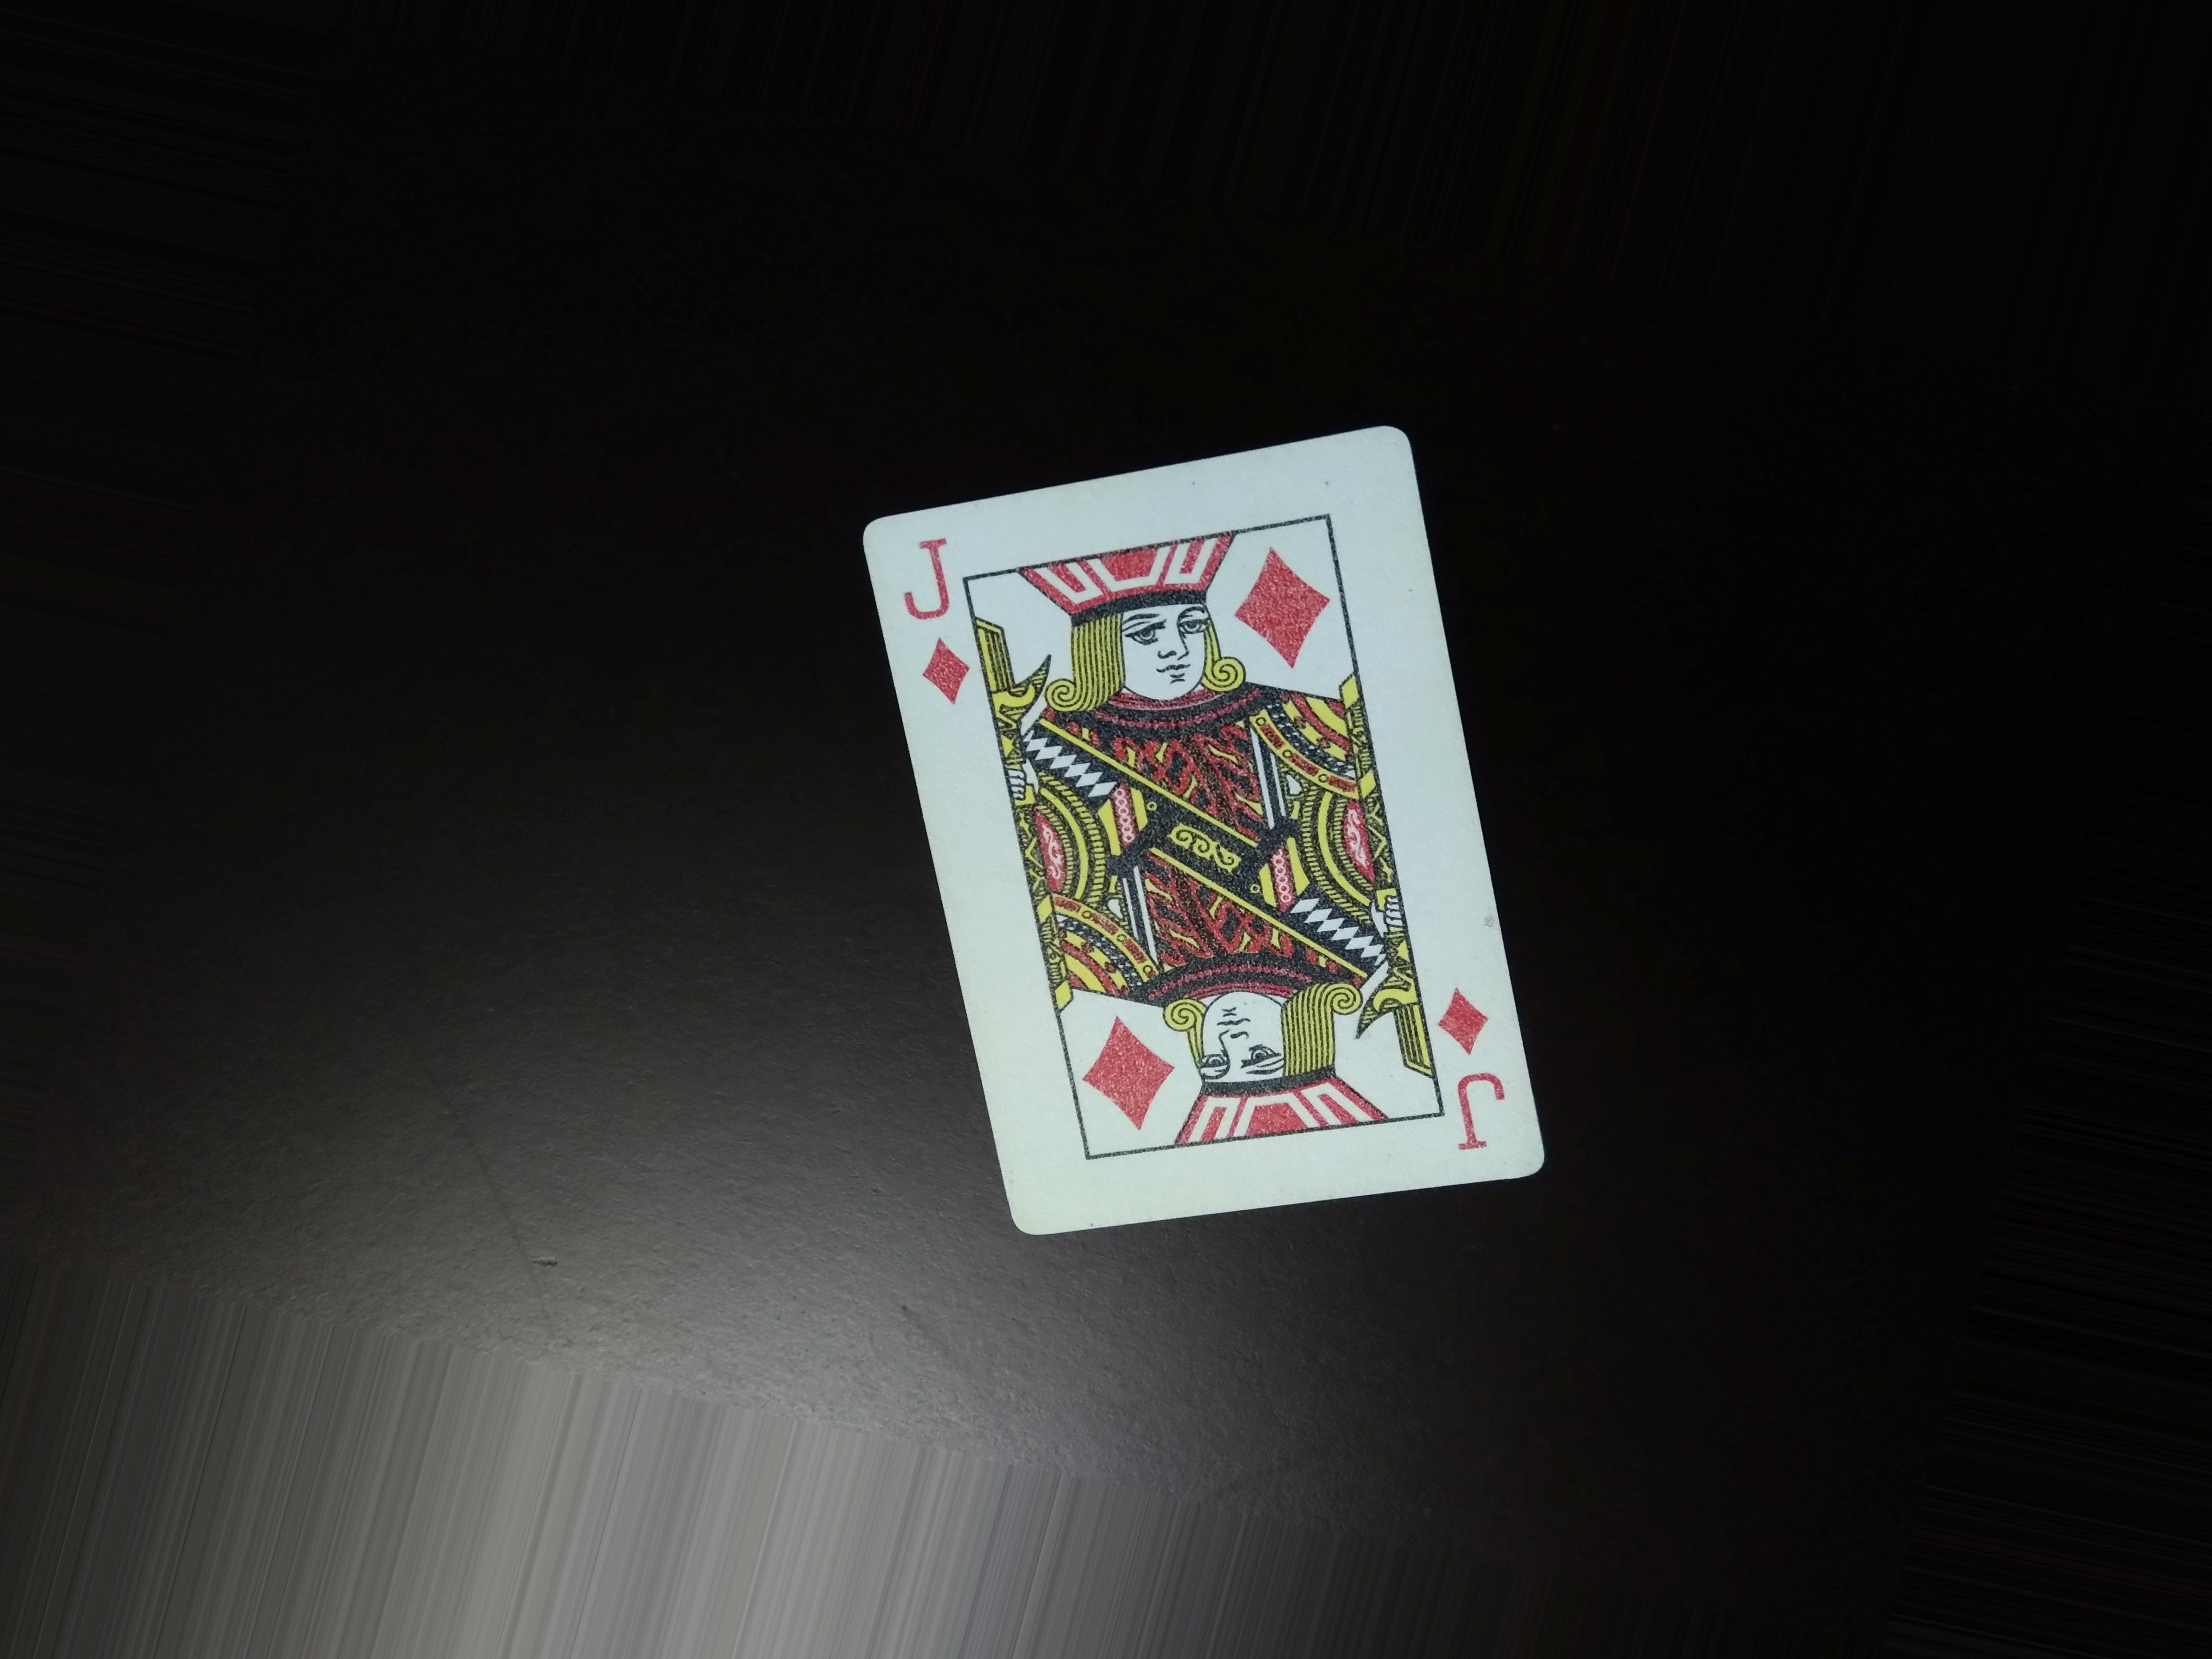JD: (899, 518, 975, 721)
